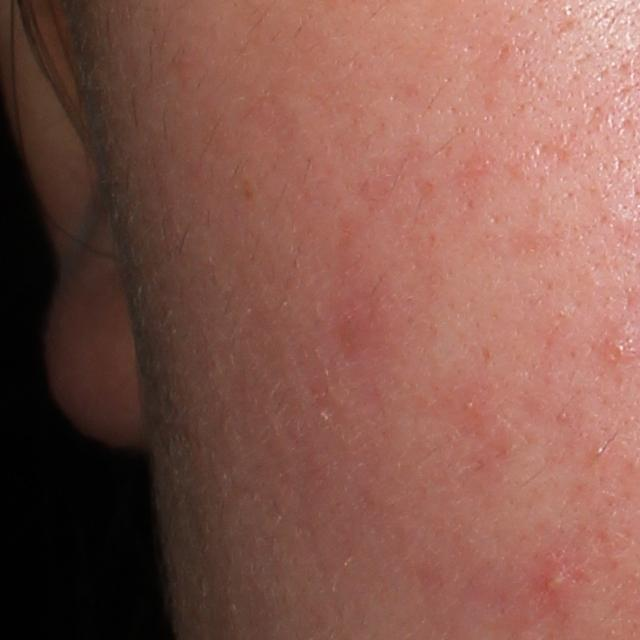pustule: (536, 563, 576, 607)
